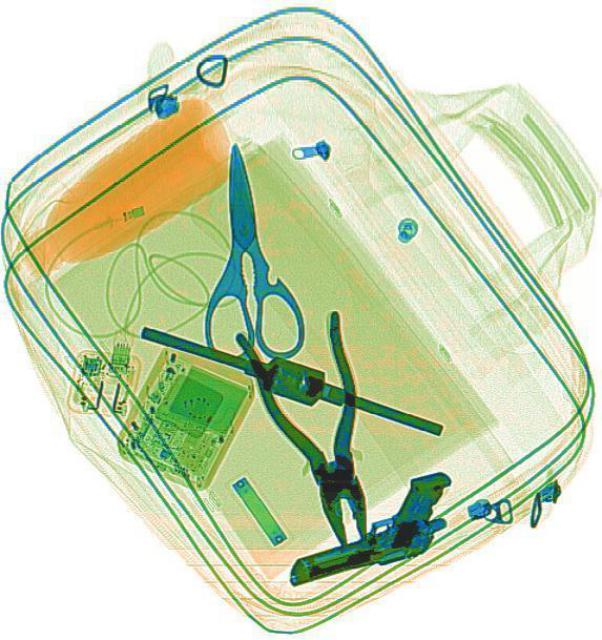Gun: (270, 466, 465, 590)
Pliers: (231, 300, 407, 560)
Scissors: (183, 138, 305, 366)
